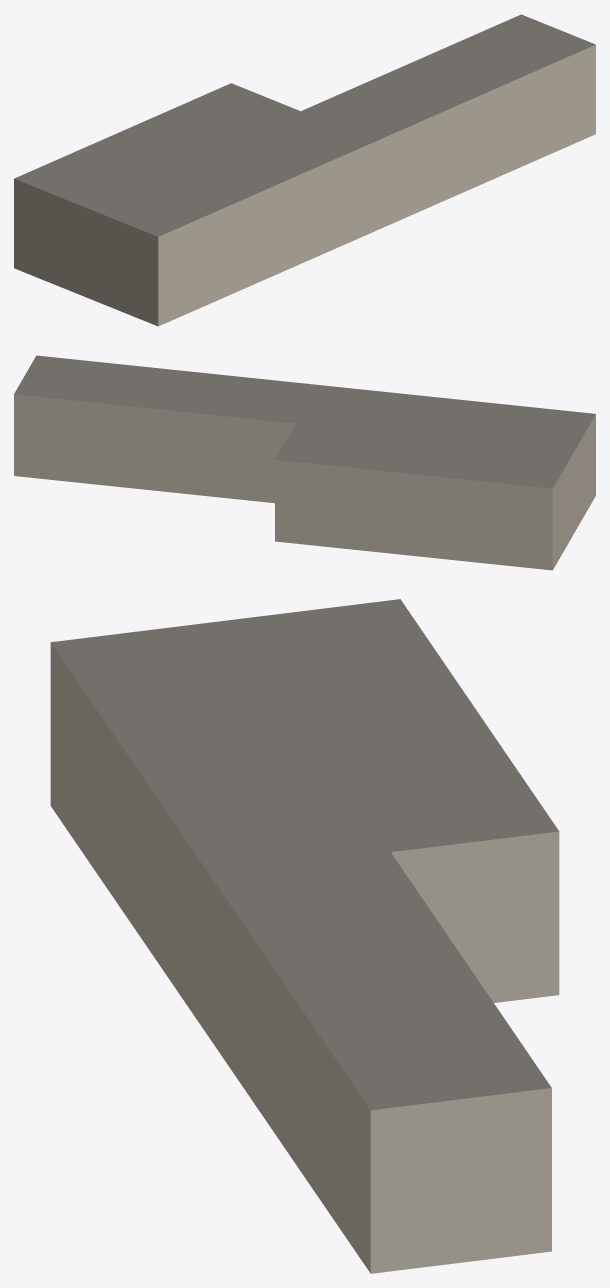
3 views of the same model, one above another, from view 1: azimuth 30°, elevation 25°; view 2: azimuth 150°, elevation 25°; view 3: azimuth 270°, elevation 25° (orthographic). The views are drawn at different scales.
Parts seen in each view (by area): view 1: HP-w494956480; view 2: HP-w494956480; view 3: HP-w494956480.
Part boxes in pixels (bbox=[...]): HP-w494956480: bbox=[14, 14, 595, 326]; HP-w494956480: bbox=[14, 355, 595, 570]; HP-w494956480: bbox=[50, 599, 559, 1273].
Bounding box in the file's own units: 80.43 × 12 × 33.83.
